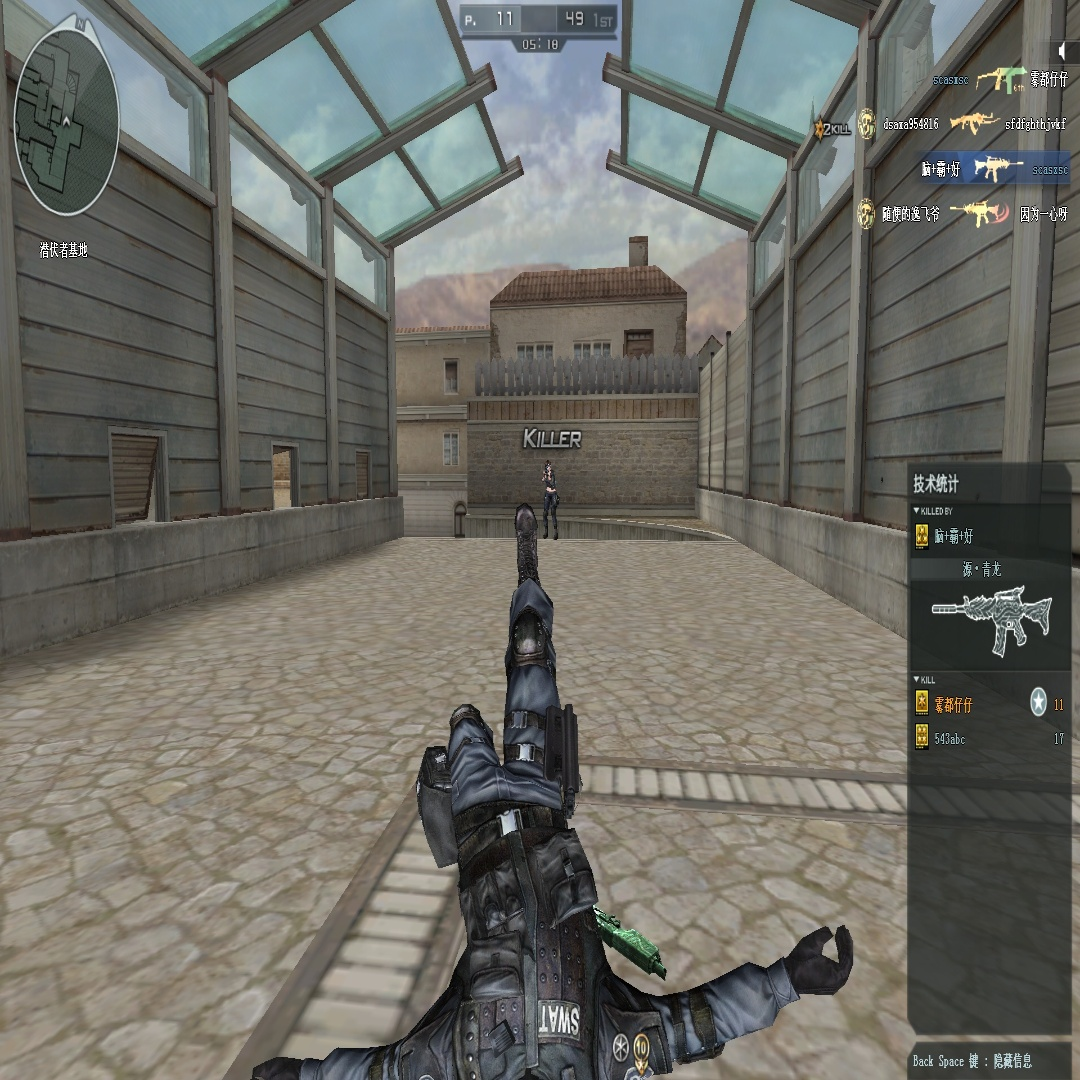p: (541, 458, 560, 539)
